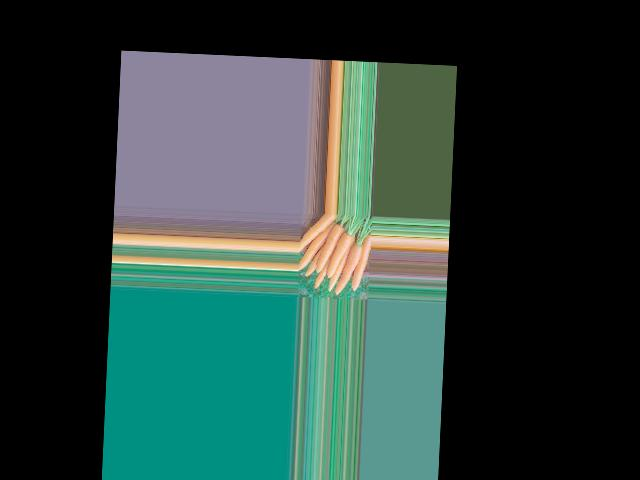carrot: (298, 213, 340, 260)
